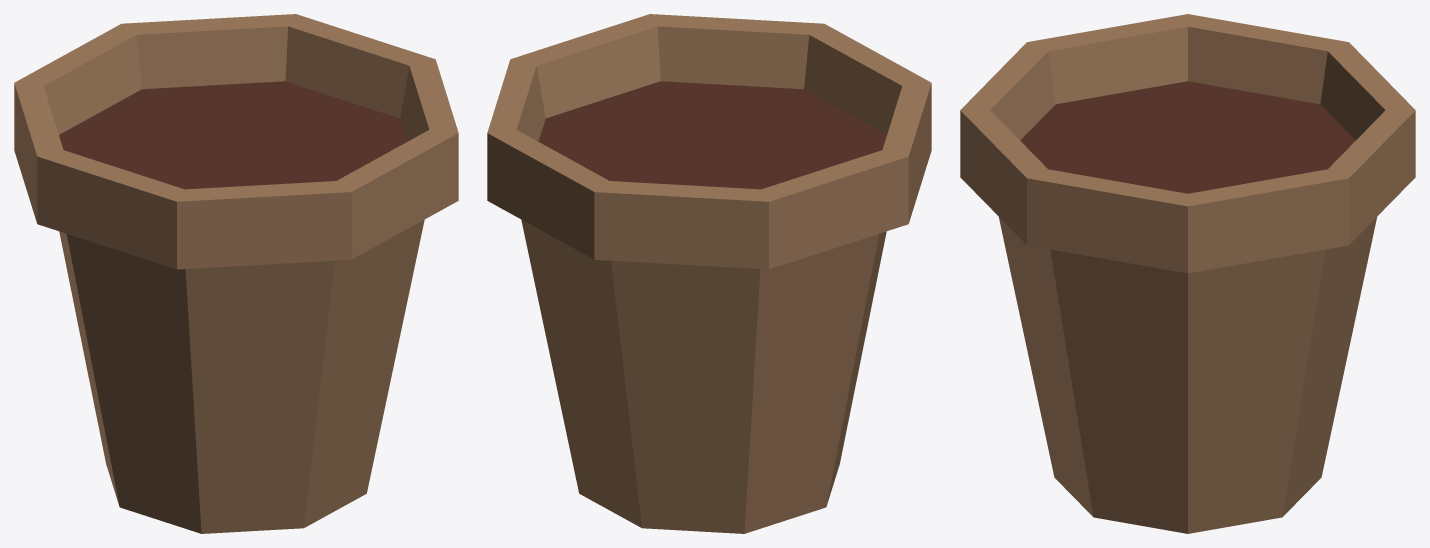
File: PlantPot.fbx
3 renders of one model, left to right at view 1: azimuth 30°, elevation 25°; view 2: azimuth 150°, elevation 25°; view 3: azimuth 270°, elevation 25°, orthographic.
Parts seen in each view (by area): view 1: PlantPot; view 2: PlantPot; view 3: PlantPot.
Part boxes in pixels (x1,y1,x2,y2): PlantPot: (14,14,458,533); PlantPot: (487,14,931,533); PlantPot: (960,14,1415,533).
Size of the model in its own units: 36.78 by 32.73 by 36.78.
